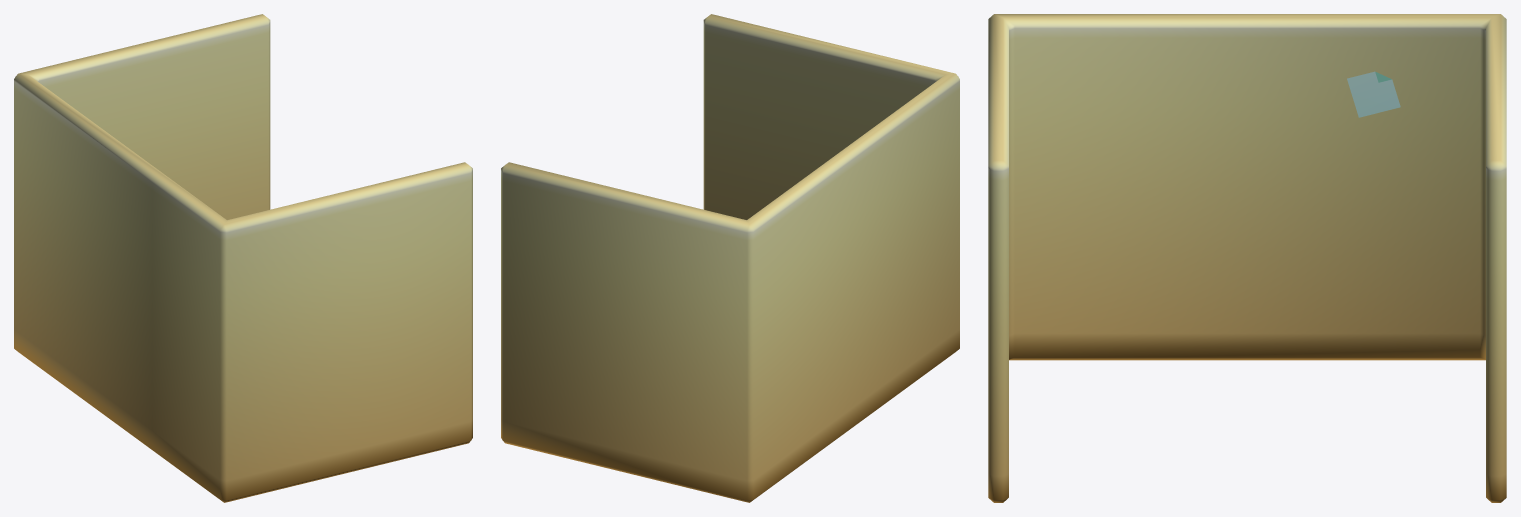
File: Cubical.fbx
3 renders of one model, left to right at view 1: azimuth 30°, elevation 25°; view 2: azimuth 150°, elevation 25°; view 3: azimuth 270°, elevation 25°, orthographic. The views are drawn at different scales.
Visible parts, largest first — view 1: Cubical; view 2: Cubical; view 3: Cubical.
Part boxes in pixels (left/top/right/bottom): Cubical: left=14, top=14, right=472, bottom=502; Cubical: left=501, top=14, right=959, bottom=502; Cubical: left=988, top=14, right=1506, bottom=502.
Size of the model in its own units: 2 by 1.9 by 2.75.
